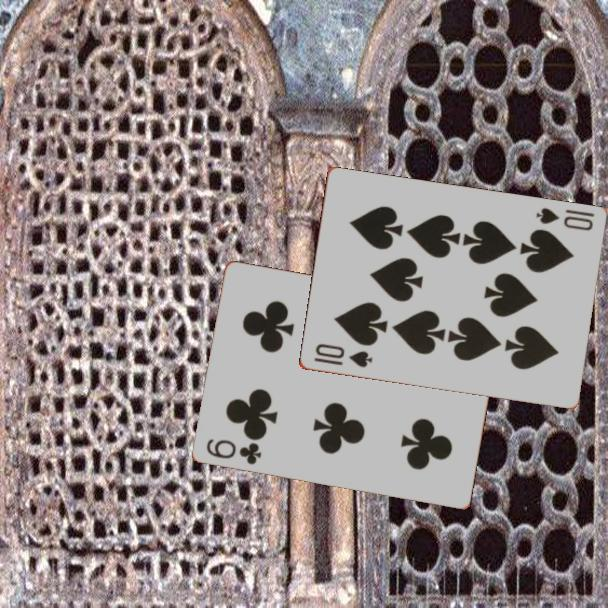c06: (203, 435, 265, 467)
s10: (310, 340, 375, 370), (532, 204, 597, 234)
